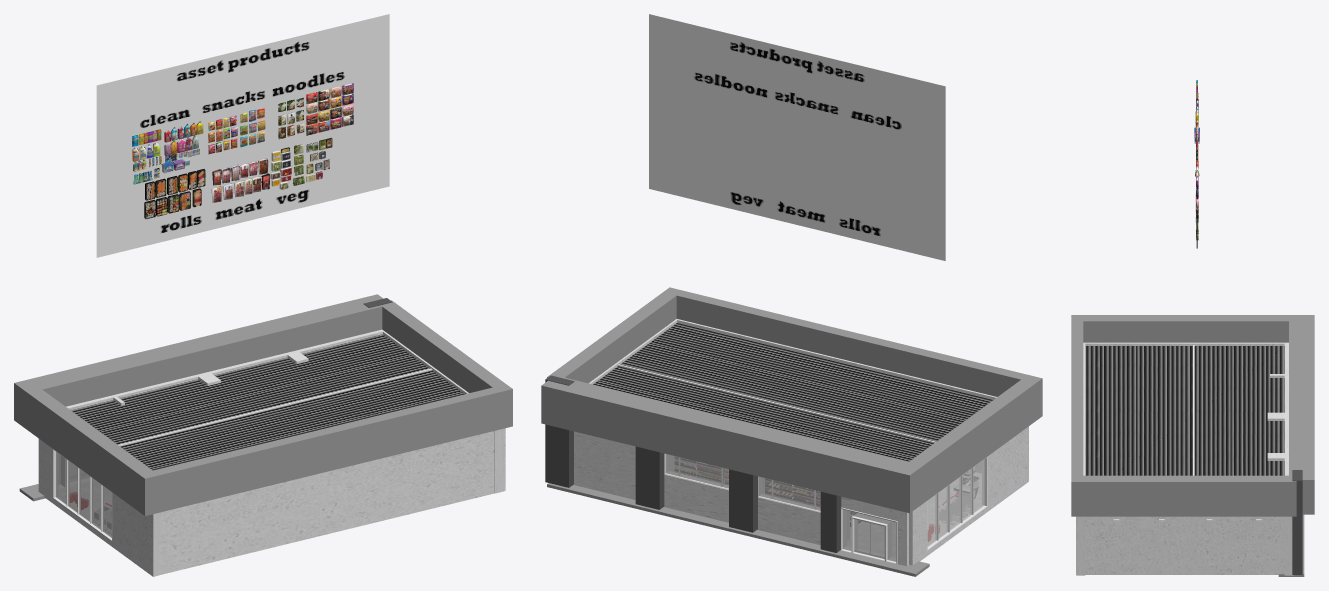
Rendered from supermarket.glb.
3 views of the same model, side by side, from view 1: azimuth 30°, elevation 25°; view 2: azimuth 150°, elevation 25°; view 3: azimuth 270°, elevation 25° (orthographic). The views are drawn at different scales.
Parts seen in each view (by area): view 1: Object_7011, Object_7060, Object_3946, Object_7074, Object_4, Object_43, Object_182, Object_254, Object_306, Object_996, Object_1206, Object_230 (+5 smaller); view 2: Object_7011, Object_7060, Object_7074, Object_3946, Object_43, Object_7052, Object_4, Object_6; view 3: Object_7074, Object_7060, Object_3946, Object_7052, Object_4.
Boxes of the visible parts, box(x1,y1,x2,y2) form: Object_7011: box(96, 14, 389, 257); Object_7060: box(14, 294, 512, 515); Object_3946: box(38, 329, 505, 576); Object_7074: box(71, 334, 464, 470); Object_4: box(52, 368, 432, 541); Object_43: box(56, 452, 111, 537); Object_182: box(144, 169, 205, 219); Object_254: box(306, 83, 353, 135); Object_306: box(211, 158, 270, 202); Object_996: box(154, 121, 203, 178); Object_1206: box(132, 129, 161, 184); Object_230: box(208, 115, 237, 154); Object_7011: box(649, 14, 945, 260); Object_7060: box(541, 287, 1042, 576); Object_7074: box(593, 322, 993, 461); Object_3946: box(573, 319, 1028, 566); Object_43: box(666, 454, 984, 561); Object_7052: box(545, 375, 841, 552); Object_4: box(618, 364, 987, 564); Object_6: box(847, 472, 981, 557); Object_7074: box(1085, 346, 1284, 475); Object_7060: box(1071, 315, 1314, 576); Object_3946: box(1076, 342, 1293, 575); Object_7052: box(1292, 470, 1302, 574); Object_4: box(1113, 345, 1261, 521).
Size of the model in its own units: 29.43 by 33.57 by 18.14.
Materials: 31 (18 with a texture image).
